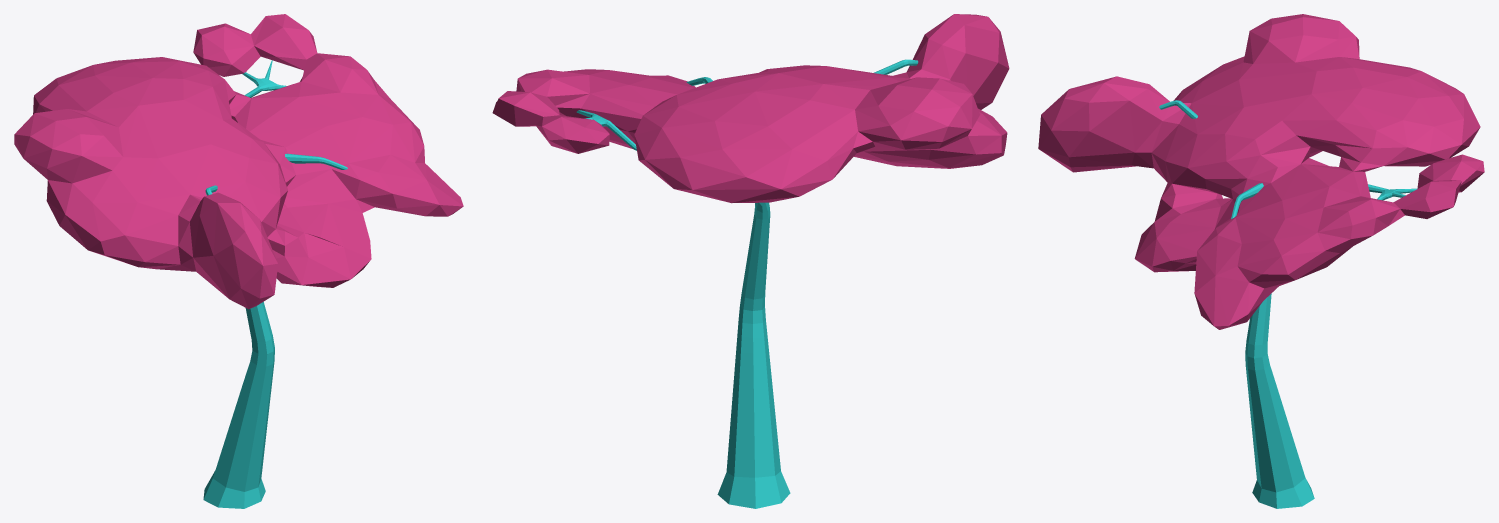
File: tree1.fbx
3 views of the same model, side by side, from view 1: azimuth 30°, elevation 25°; view 2: azimuth 150°, elevation 25°; view 3: azimuth 270°, elevation 25° (orthographic). The views are drawn at different scales.
Visible parts, largest first — view 1: Mball_013, Cube; view 2: Mball_013, Cube; view 3: Mball_013, Cube.
Boxes of the visible parts, box(x1,y1,x2,y2) form: Mball_013: box(14, 14, 463, 309); Cube: box(203, 60, 347, 508); Mball_013: box(492, 14, 1009, 203); Cube: box(576, 59, 918, 508); Mball_013: box(1038, 14, 1484, 329); Cube: box(1159, 100, 1417, 508).
Size of the model in its own units: 7.02 by 6.84 by 6.94.
